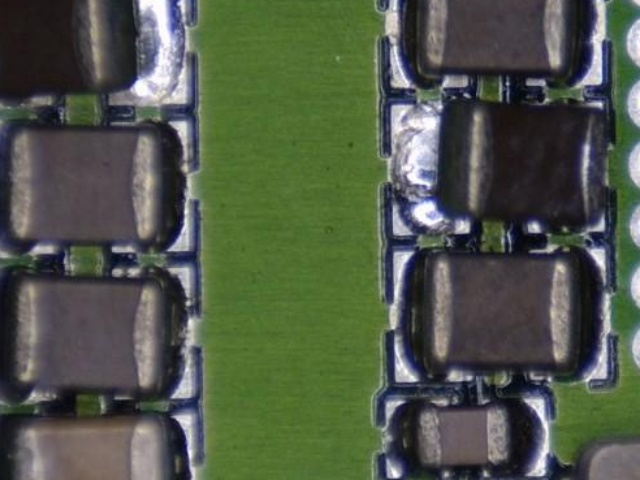pcb_defect: (388, 98, 608, 237), (0, 0, 192, 109)
